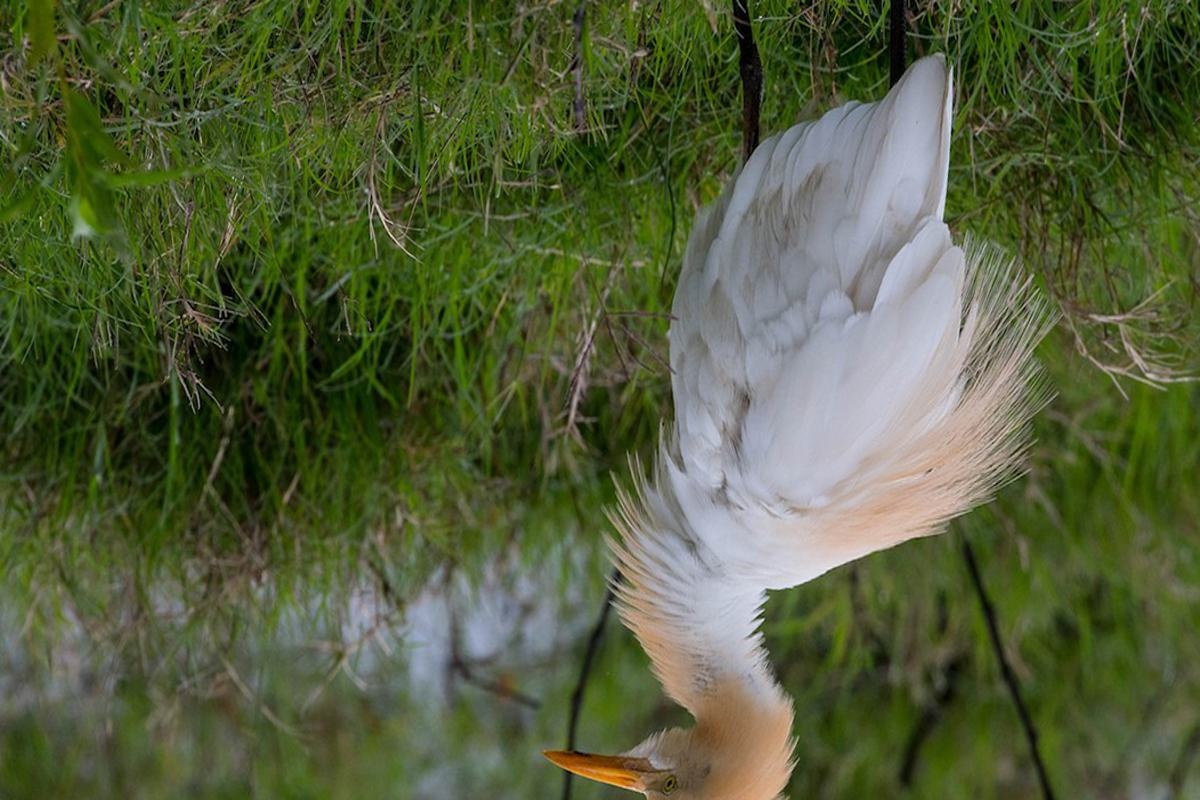egret: (545, 1, 1051, 799)
